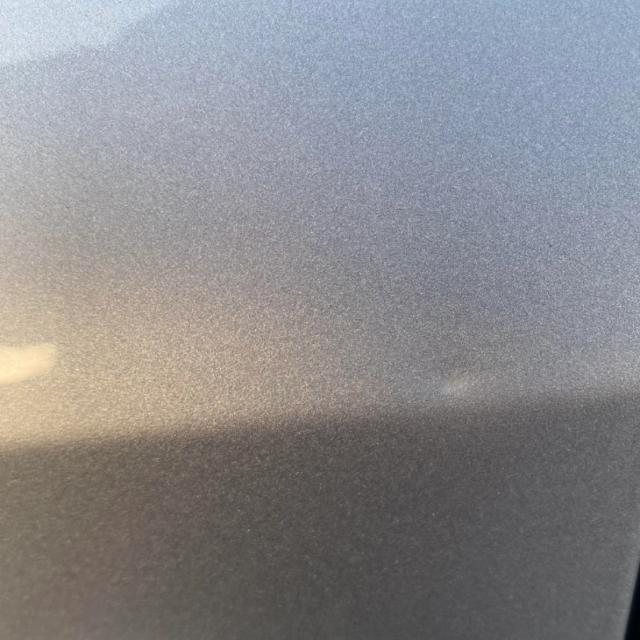dents: (424, 346, 519, 426)
